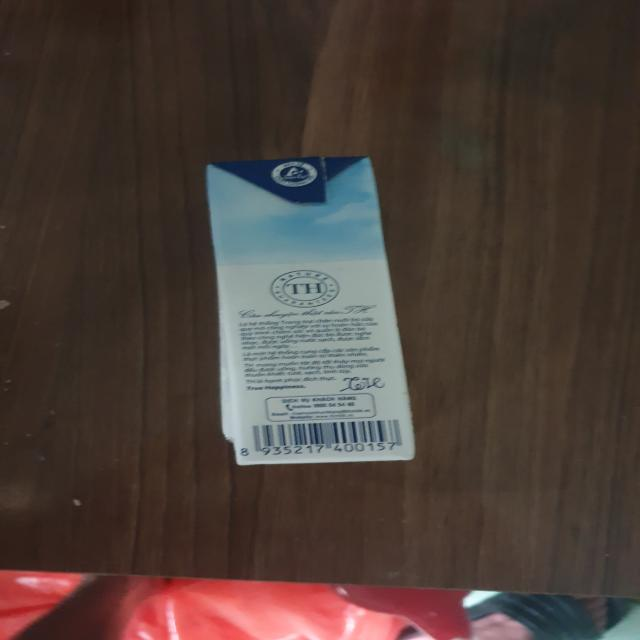TH: (201, 153, 421, 466)
